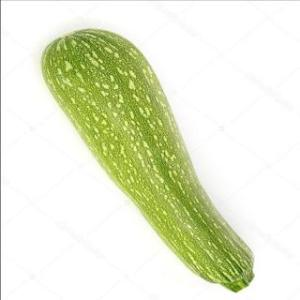zucchini: (42, 34, 274, 292)
